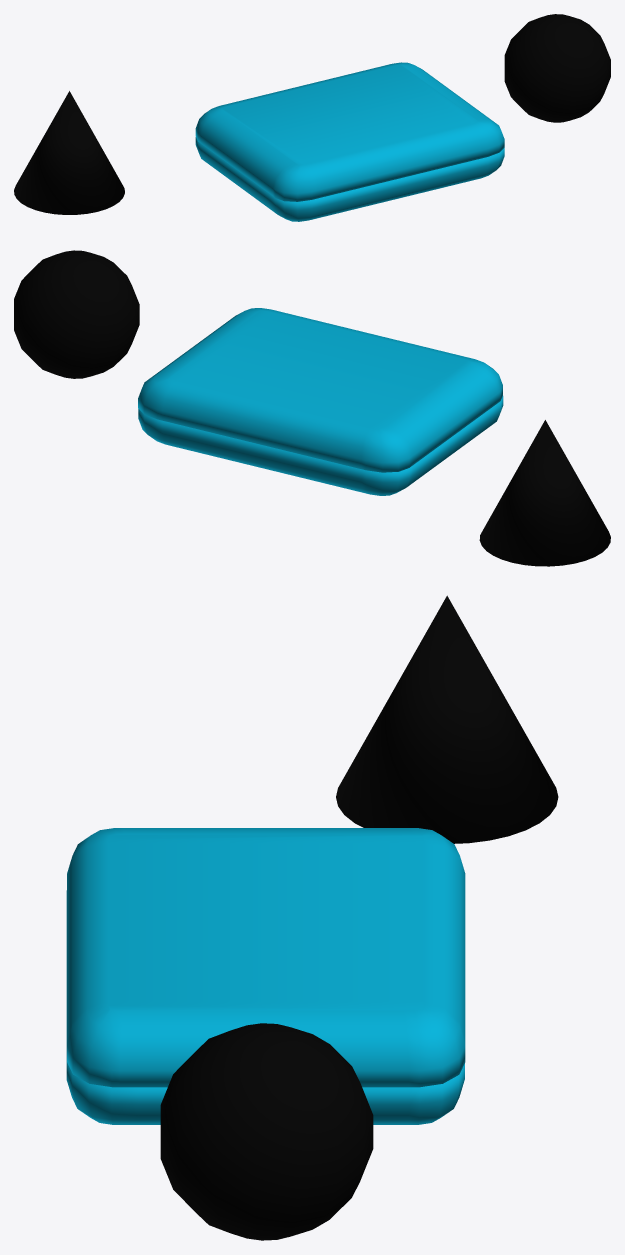
Rendered from labonumerique.glb.
The picture shows the model from 3 angles, top to bottom: view 1: azimuth 30°, elevation 25°; view 2: azimuth 150°, elevation 25°; view 3: azimuth 270°, elevation 25°; orthographic projection. The views are drawn at different scales.
Parts seen in each view (by area): view 1: Plane.001, Sphere, Cone, Plane.002; view 2: Plane.001, Sphere, Cone, Plane.002; view 3: Plane.001, Sphere, Cone, Plane.002.
Part boxes in pixels (bbox=[...]): Plane.001: bbox=[195, 62, 504, 201]; Sphere: bbox=[504, 14, 610, 122]; Cone: bbox=[14, 91, 124, 214]; Plane.002: bbox=[195, 137, 504, 221]; Plane.001: bbox=[138, 308, 502, 472]; Sphere: bbox=[14, 250, 139, 378]; Cone: bbox=[479, 420, 610, 566]; Plane.002: bbox=[138, 396, 503, 495]; Plane.001: bbox=[67, 828, 465, 1087]; Sphere: bbox=[160, 1023, 373, 1240]; Cone: bbox=[336, 595, 558, 843]; Plane.002: bbox=[66, 890, 464, 1124].
Size of the model in its own units: 2.95 by 0.5398 by 1.17.
